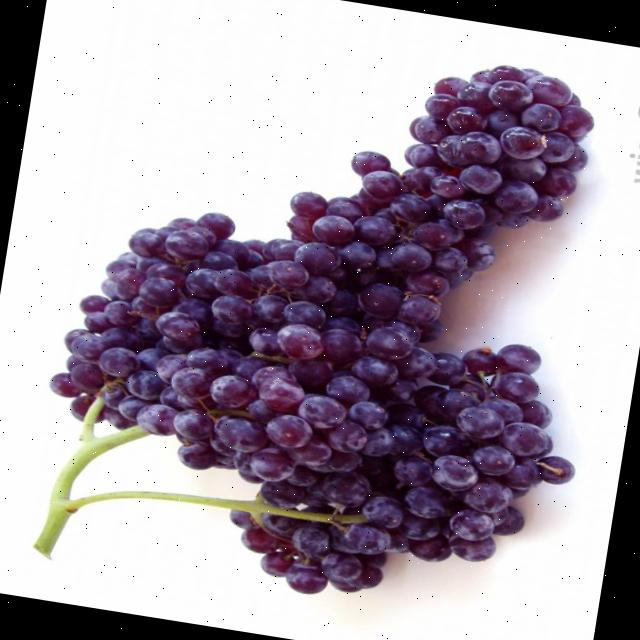grape: (35, 66, 592, 594)
